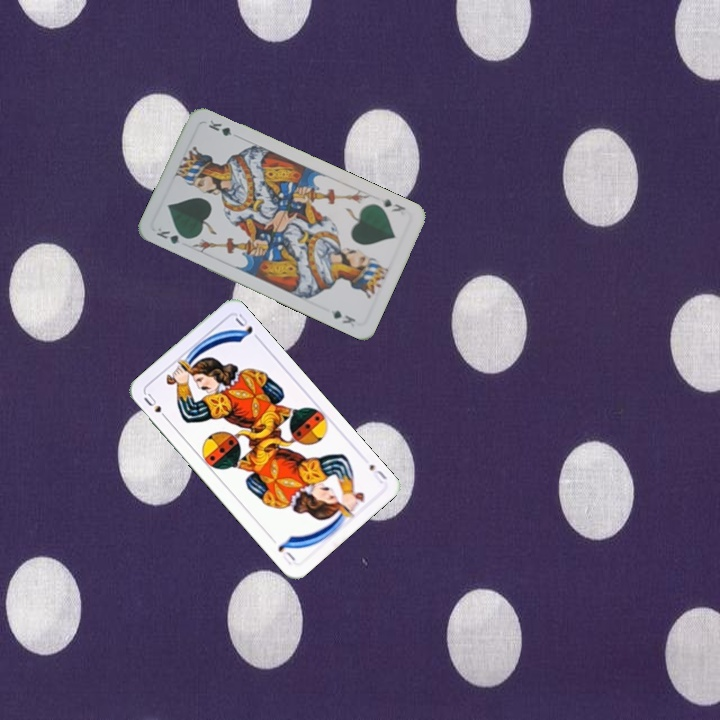GK: (152, 223, 192, 247), (377, 194, 408, 215)
SU: (140, 389, 171, 423), (365, 460, 389, 486)
